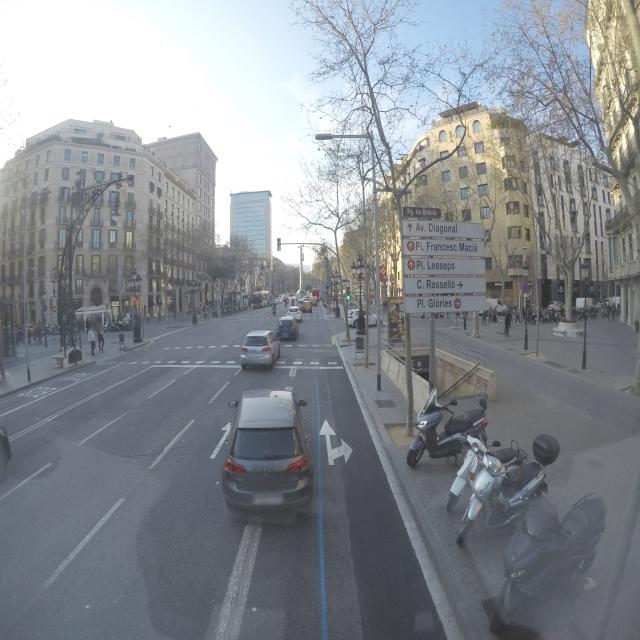bike: (455, 410, 640, 639), (409, 385, 566, 640), (436, 401, 588, 640)
car: (222, 389, 314, 523), (240, 330, 280, 370), (275, 318, 299, 340), (286, 306, 302, 323), (366, 308, 379, 327), (302, 299, 313, 313)
